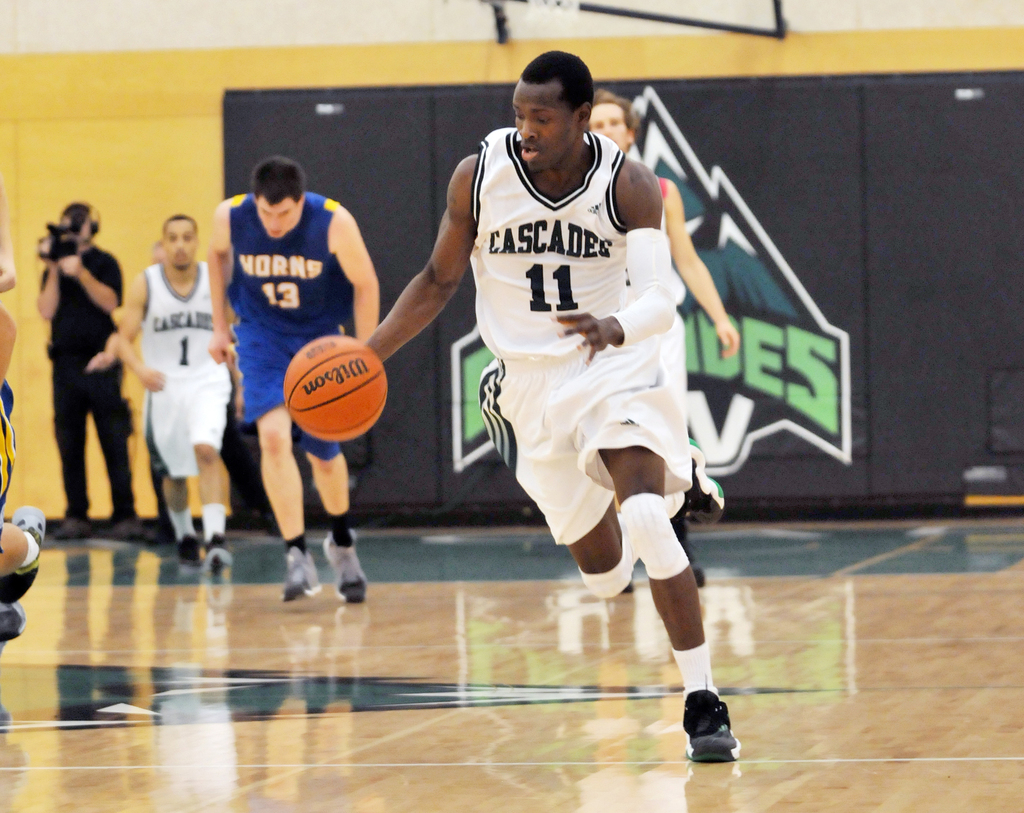Ball: (286, 336, 387, 443)
